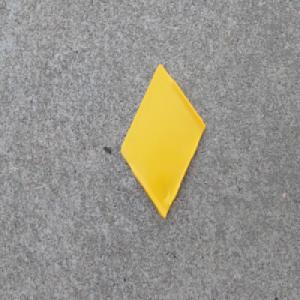PlasticPart: (119, 62, 206, 220)
